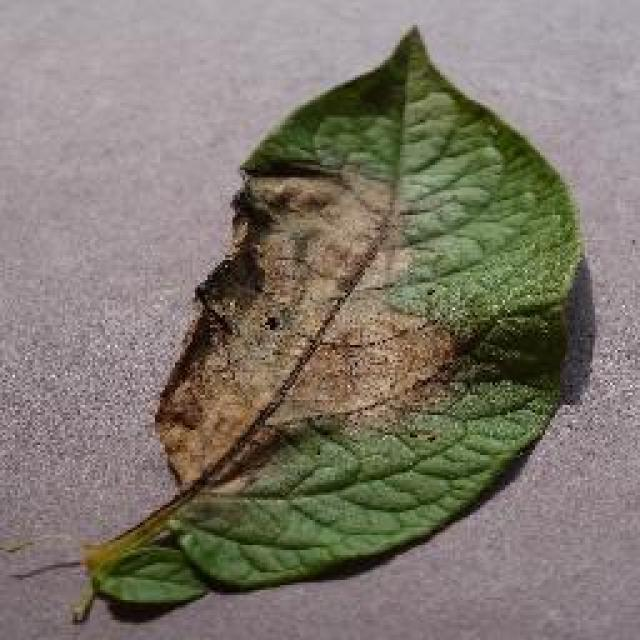late_blight: (72, 22, 590, 620)
